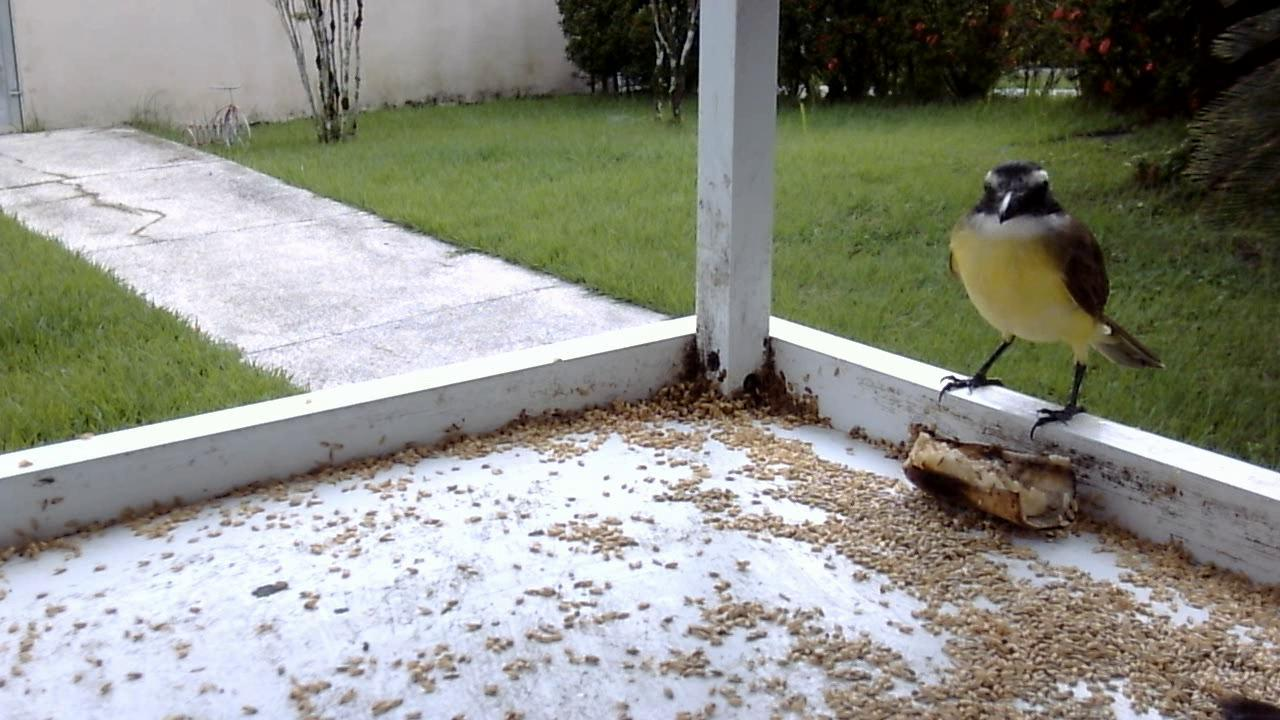bem_te_vi: (930, 149, 1168, 442)
